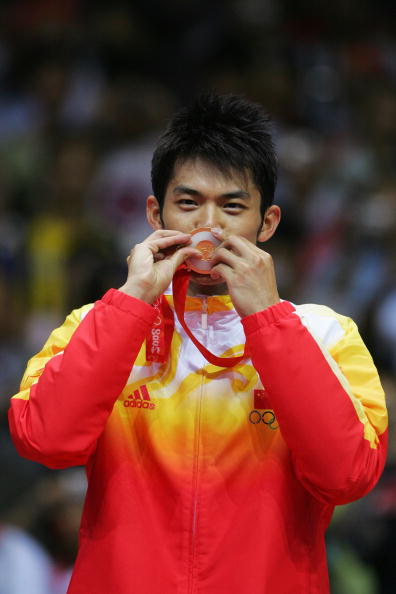face: (163, 148, 261, 285)
